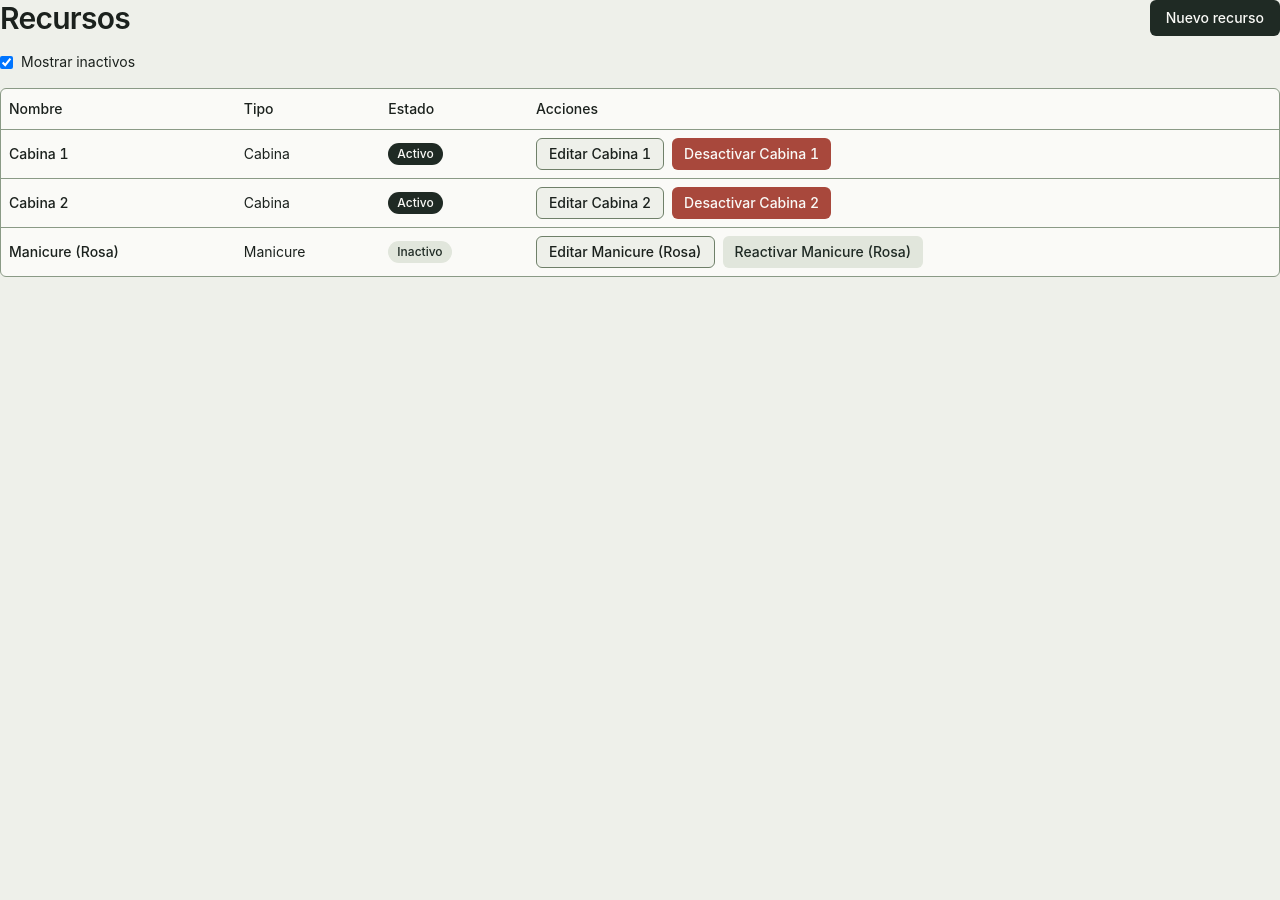
Test: ResourcesPage › edita un recurso con sus valores precargados
Check: the row "Cabina 1 Cabina Activo Editar Cabina 1 Desactivar Cabina 1" is shown, box [1,130,1279,178]
Click the button "Editar Cabina 1": {"x": 600, "y": 154} [536,138,664,170]
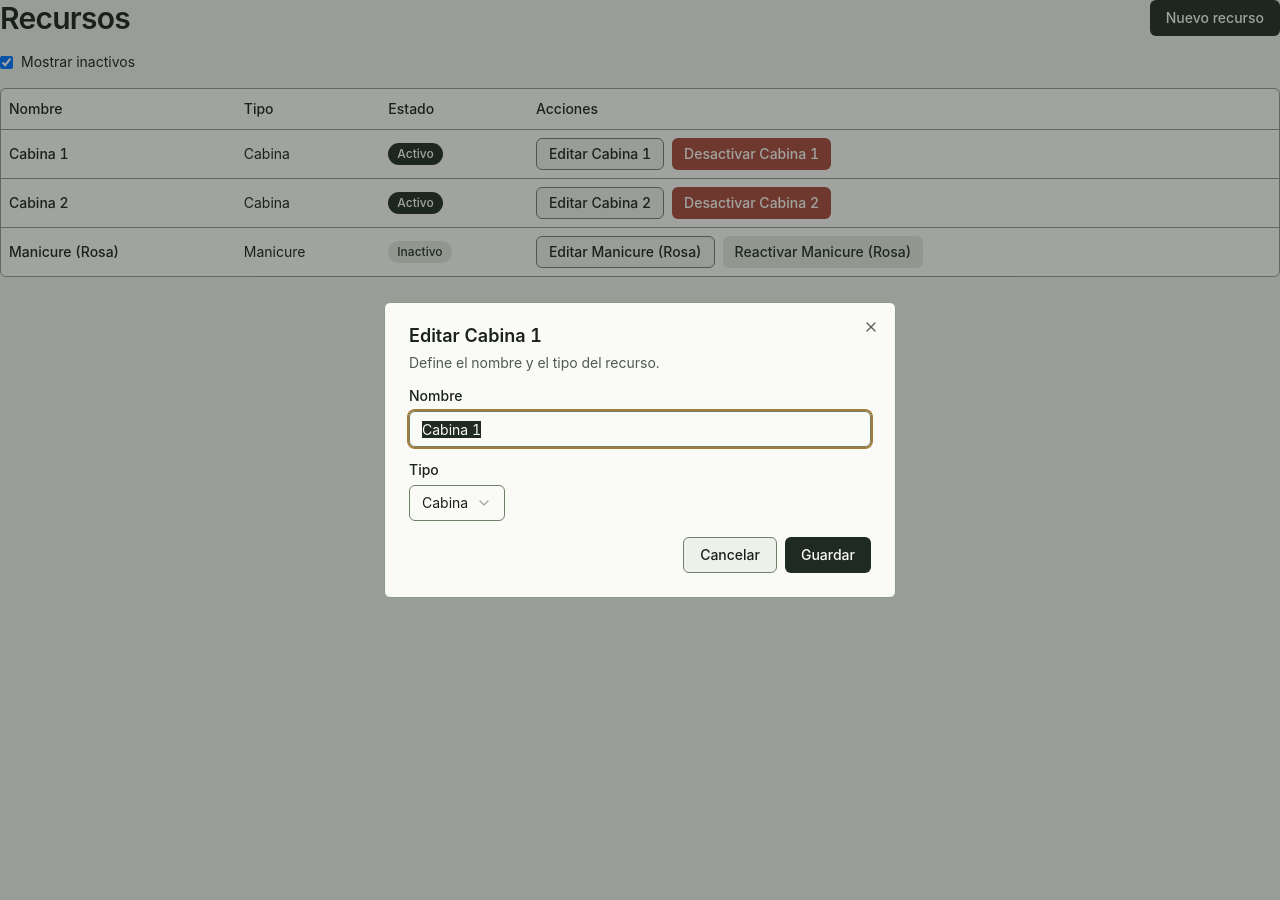
Check: the field labelled "Nombre" holds "Cabina 1"
Replace the text in the field labelled "Nombre" with "Cabina Premium": {"x": 640, "y": 429} [409,411,871,447]
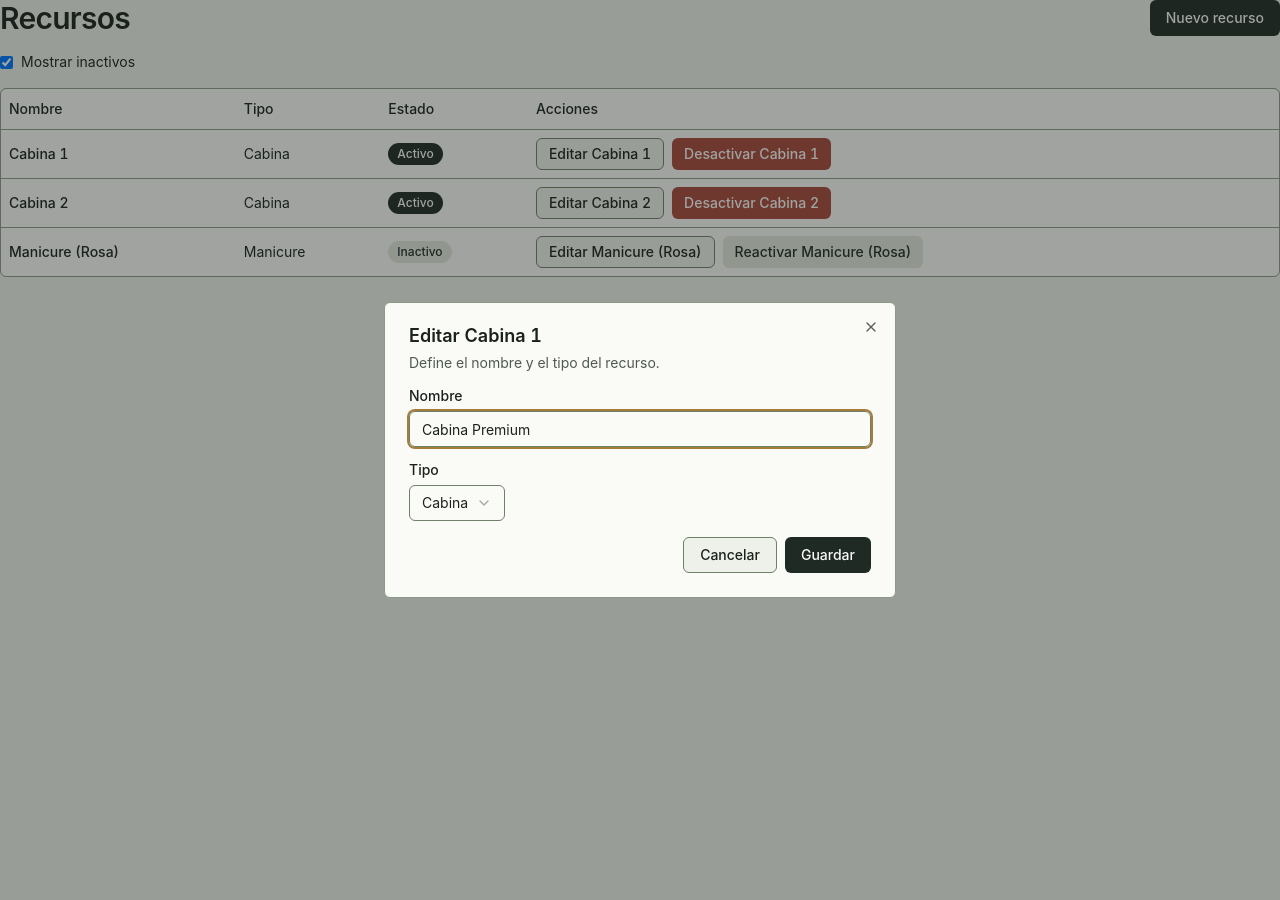
Click the button "Guardar": {"x": 828, "y": 555} [785,537,871,573]
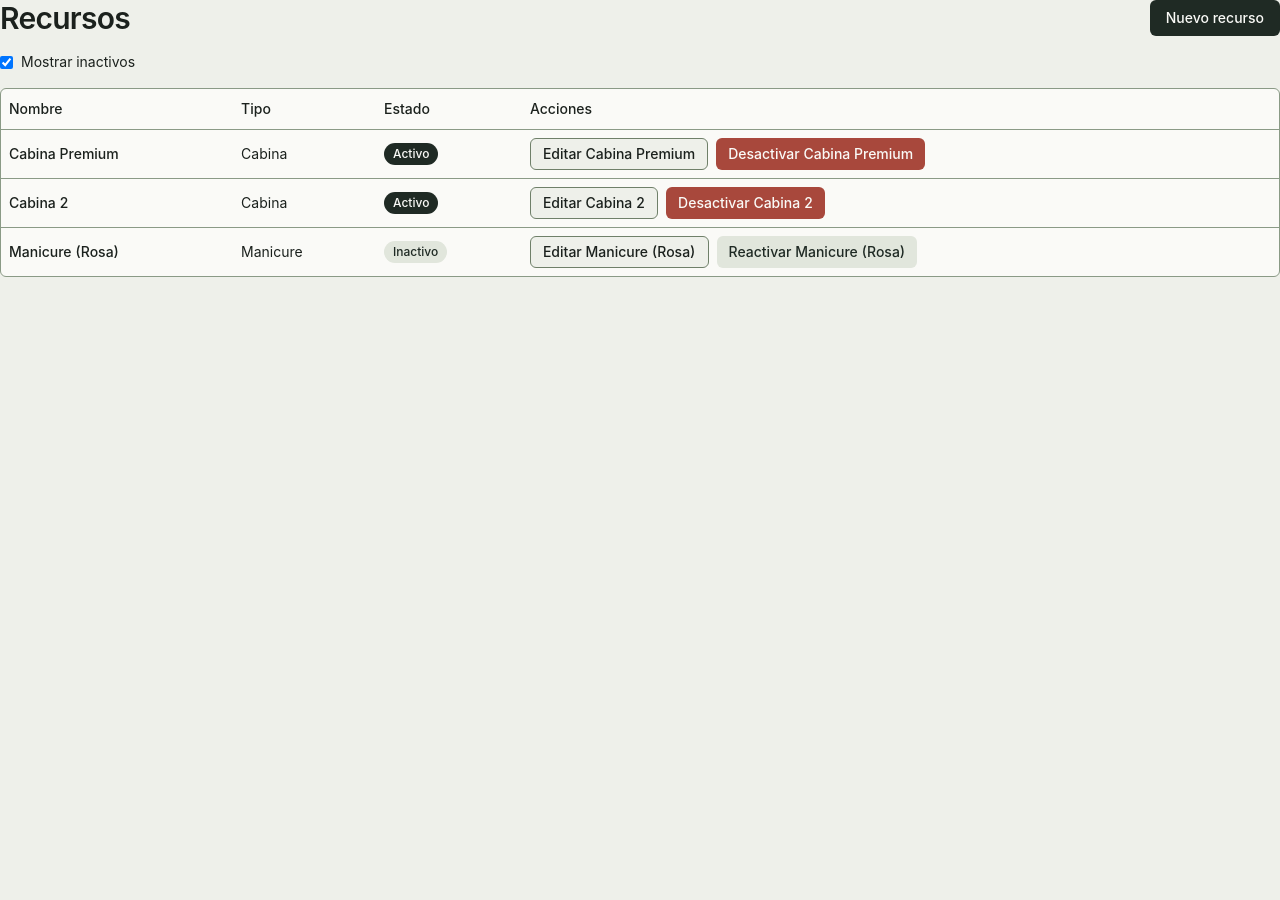
Check: the row "Cabina Premium" is shown, box [1,130,1279,178]
Check: the cell "Cabina Premium" is shown, box [1,130,233,178]
